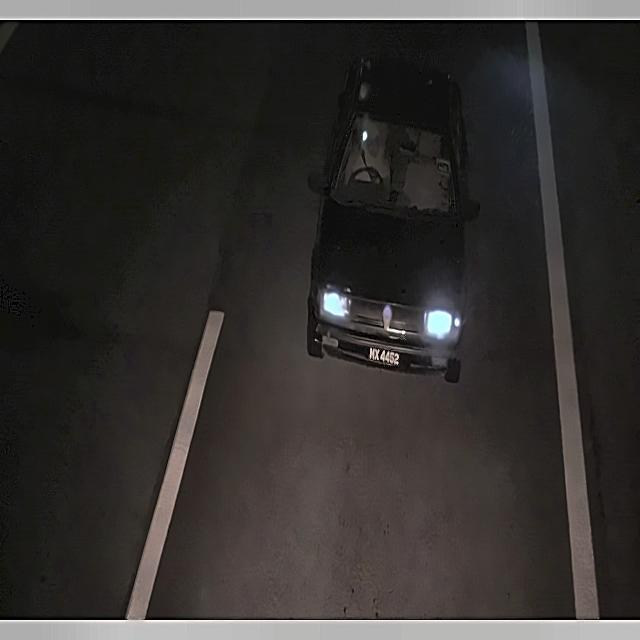car: (361, 342, 407, 372)
